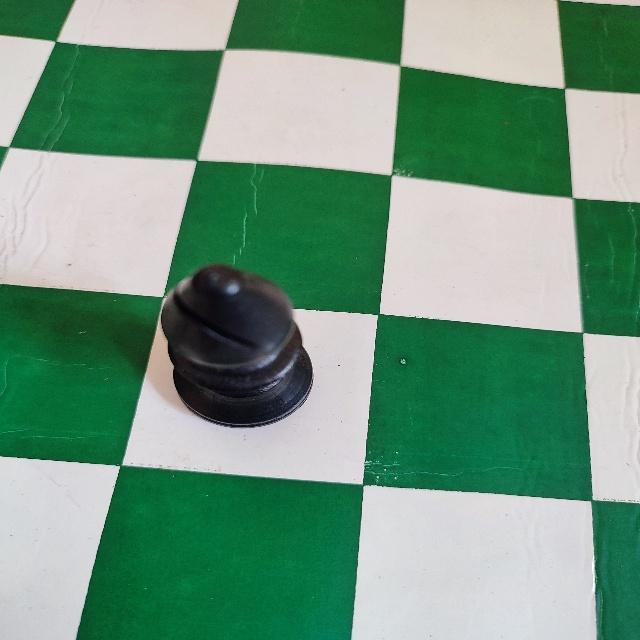Bishop: (158, 261, 317, 431)
